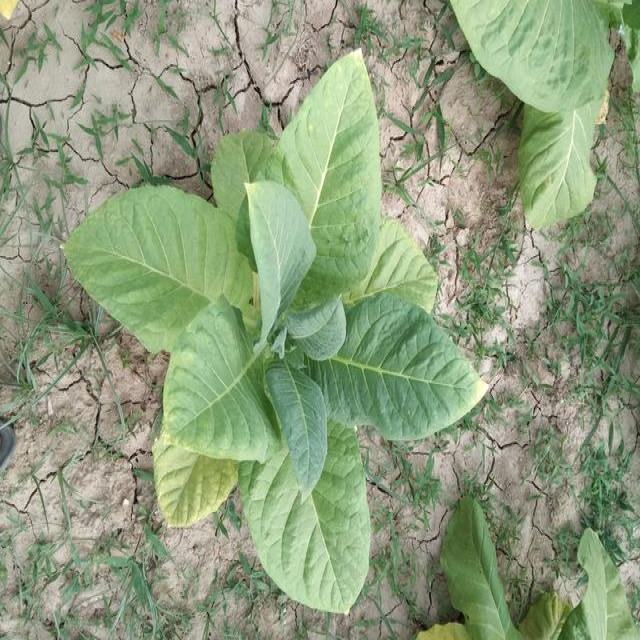crop: (54, 74, 480, 592), (458, 0, 639, 226), (430, 496, 634, 640)
